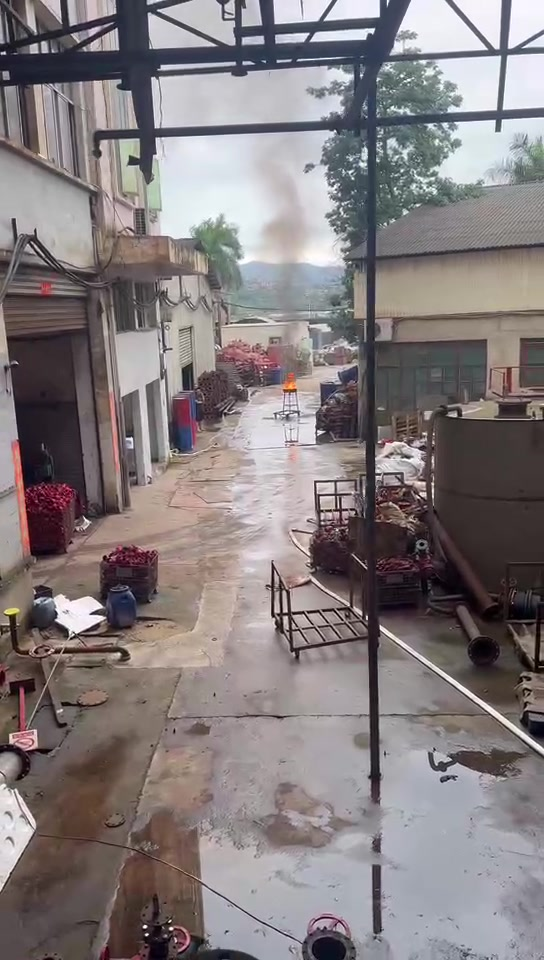fire: (280, 372, 298, 390)
